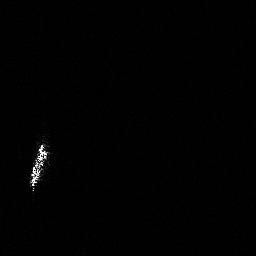ship: (27, 141, 50, 191)
